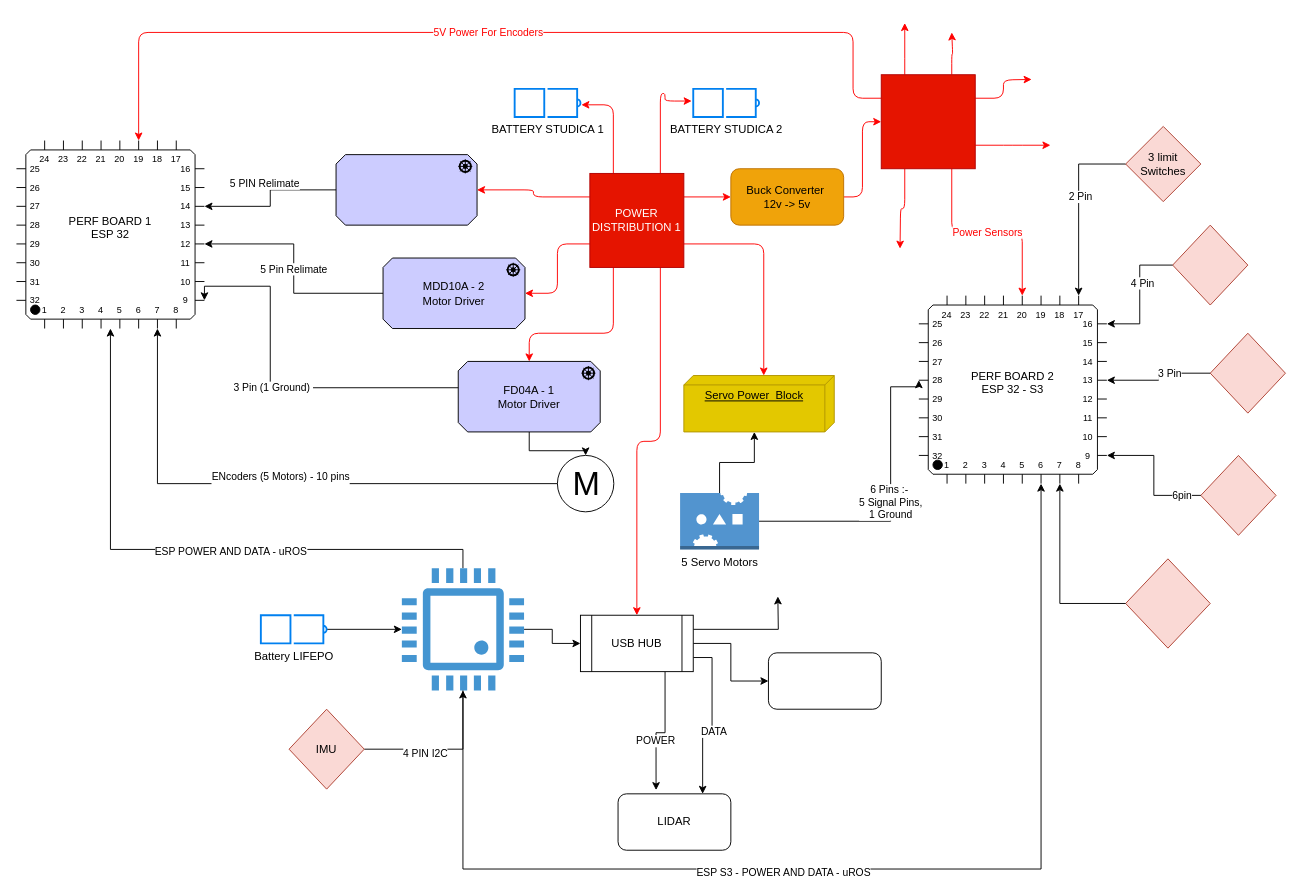
The diagram is 1302 pixels wide and 895 high, and some of its shapes have lost their labels. The shapes that lost their labels are listed below. From the top down, each one's centre as x and y in pixels, then its label:
At [927,121]: "POWER DISTRIBUTION 2".
At [406,189]: "MDD10A - 1 Motor Driver".
At [1210,264]: "4 Ultrasonic".
At [1247,372]: "2 Sharp IR".
At [1238,494]: "1 Cobra Line Sensor".
At [1167,603]: "Momentary Switches and LEDs".
At [462,629]: "JETSON".
At [824,680]: "DEPTH CAM".
